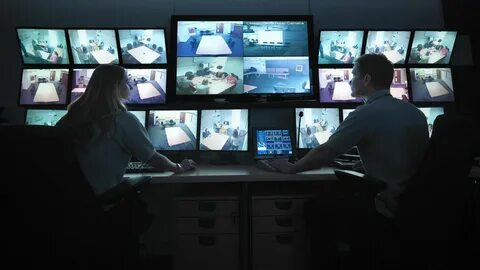awake: (342, 52, 430, 216), (54, 63, 154, 201)
